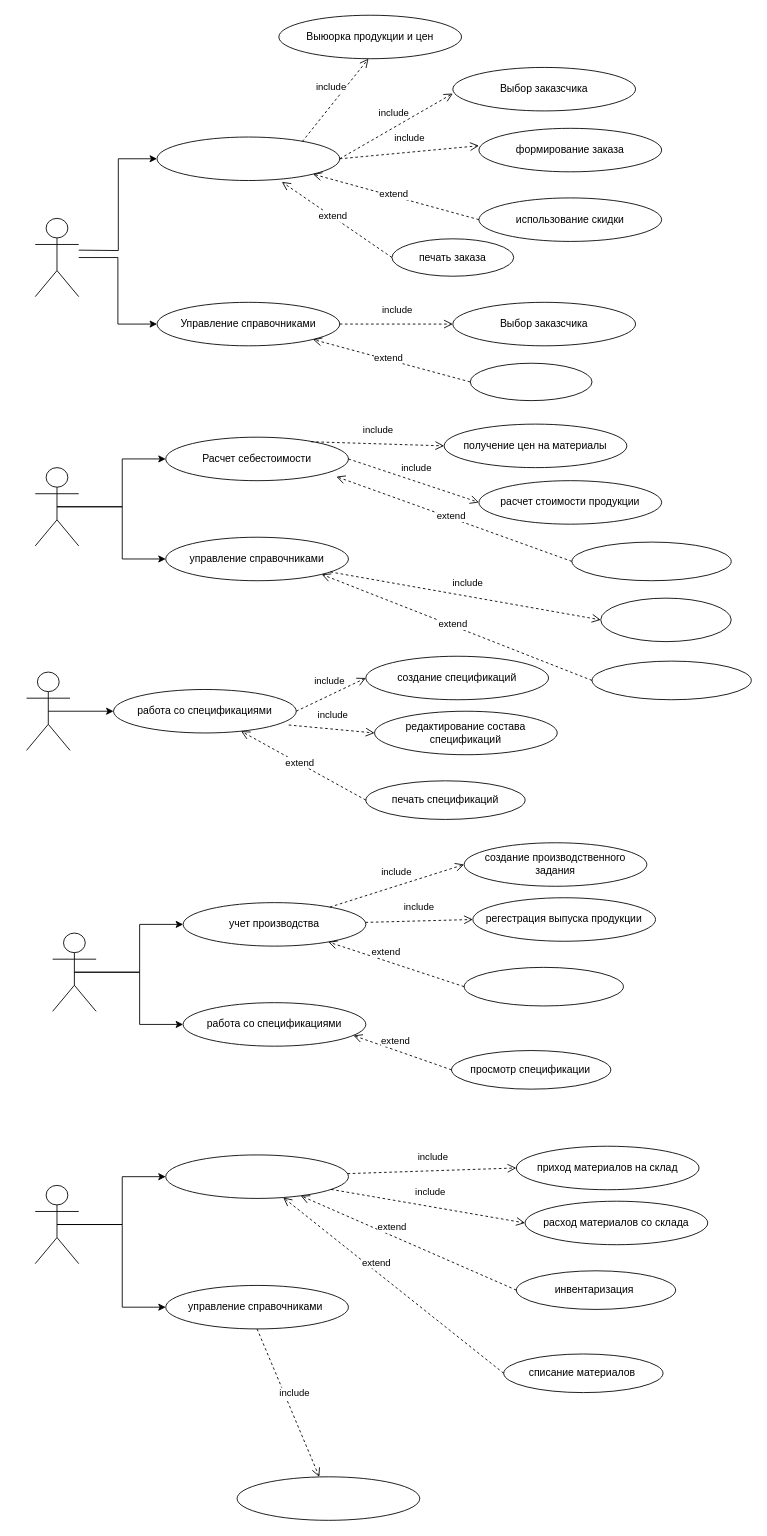
Image size: 767x1536. Some labels were removed from this diagram. The centre of each missing label's shape, as x and y in pixels:
ведение справочника цен: (665,619)
ведение справочникаматериалов: (328,1498)
кладовщик: (56,1224)
Менеджер: (56,257)
начальник производства: (74,971)
Оформление заказов: (248,158)
просмотры номенкулатуры: (530,381)
технолог: (48,710)
утверждение себестоимости: (671,680)
учет остатков на складе: (256,1176)
формирование отчета о себестоимости: (651,561)
формирование отчета по производству: (543,986)
Экономист: (56,506)
